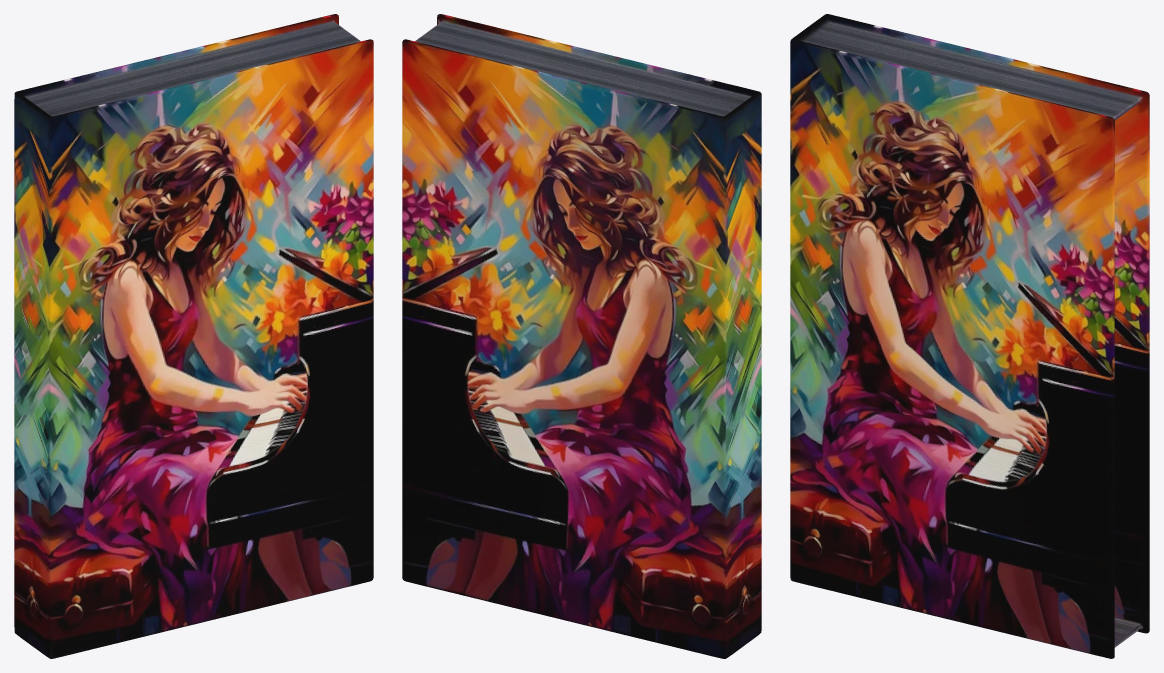
File: Meshy_AI_Crimson_Sonata_0920131549_texture.glb
3 renders of one model, left to right at view 1: azimuth 30°, elevation 25°; view 2: azimuth 150°, elevation 25°; view 3: azimuth 330°, elevation 25°, orthographic.
Bounding box in the file's own units: 1.19 × 1.9 × 0.2345.
Materials: 1 (1 with a texture image).
